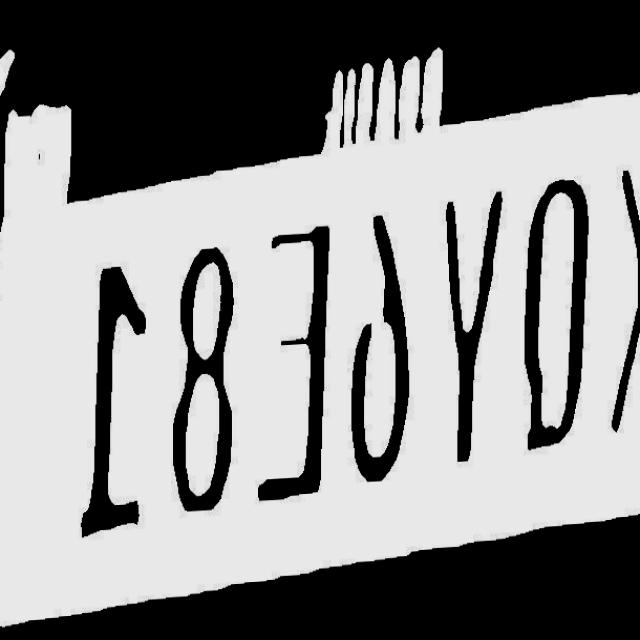1: (73, 257, 152, 545)
6: (348, 216, 416, 492)
8: (165, 235, 242, 526)
e: (255, 223, 338, 511)
q: (511, 184, 596, 469)
y: (443, 192, 505, 481)
